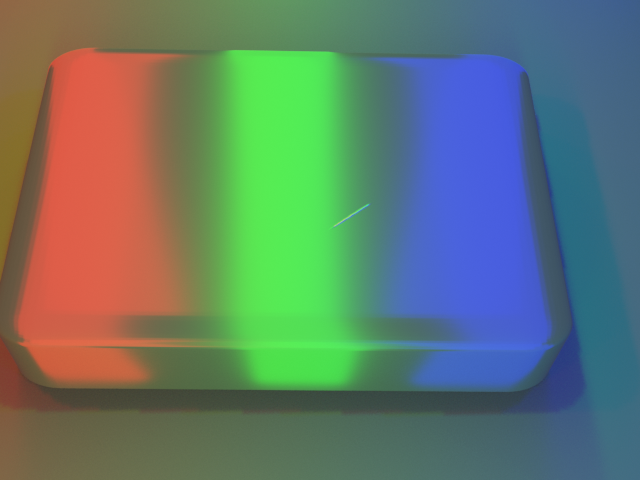scratch: (276, 169, 432, 260)
